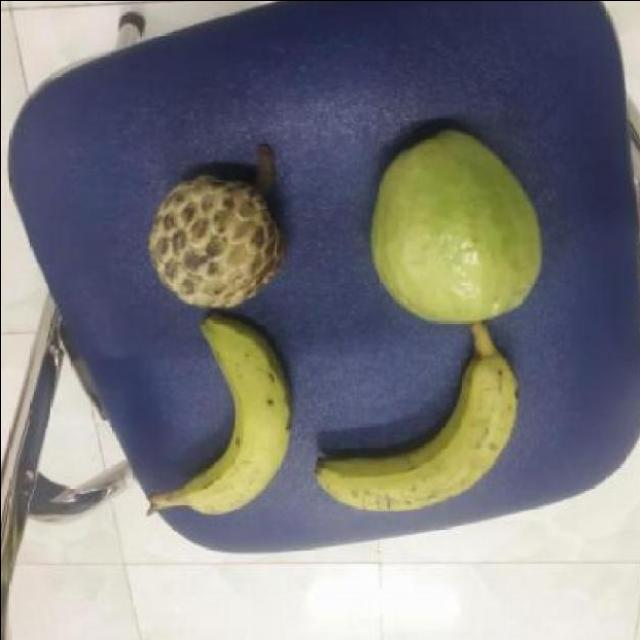banana: (312, 340, 520, 520), (169, 314, 295, 520)
guava: (364, 124, 546, 334)
sugar apple: (145, 172, 287, 314)
